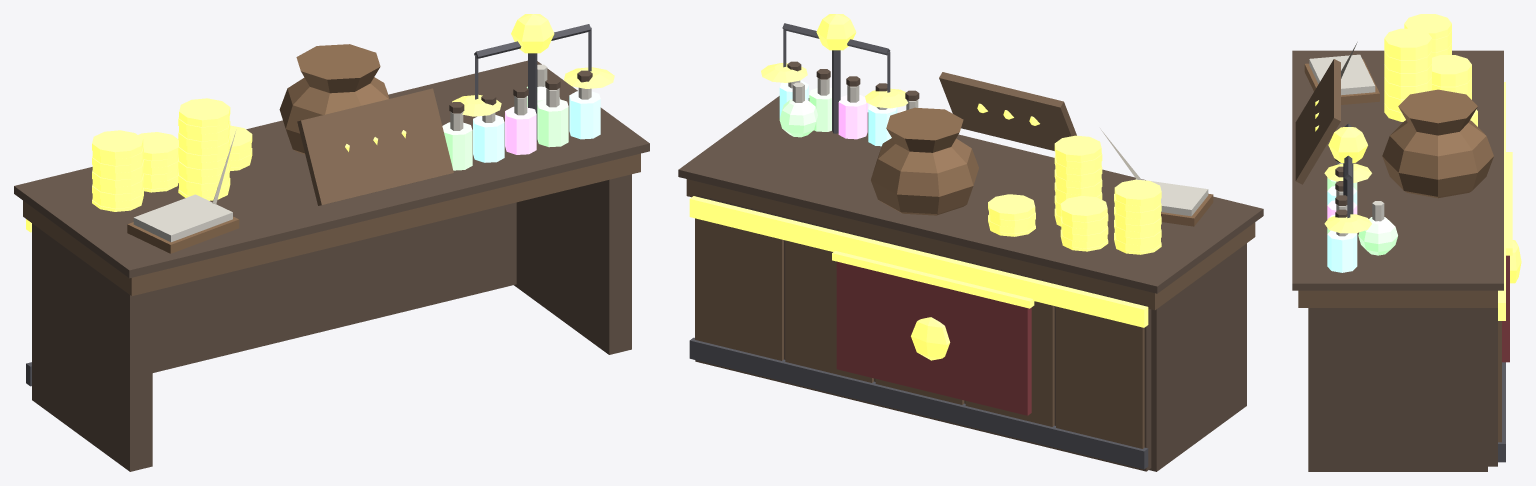
Rendered from counter.glb.
3 renders of one model, left to right at view 1: azimuth 30°, elevation 25°; view 2: azimuth 150°, elevation 25°; view 3: azimuth 270°, elevation 25°, orthographic. The views are drawn at different scales.
Parts seen in each view (by area): view 1: counter; view 2: counter; view 3: counter.
Boxes of the visible parts, <box> form: counter: <box>14,14,649,471</box>; counter: <box>678,14,1263,471</box>; counter: <box>1292,14,1521,471</box>.
Bounding box in the file's own units: 2.76 × 1.72 × 1.15.
